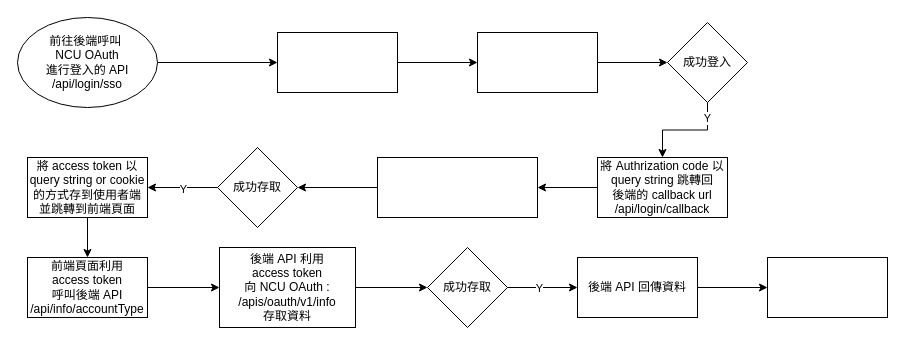
Some shapes in this 905 by 345 pixel diagram are drawn without their labels. Here are the shapes that lost their labels. From the top down, the centre of each, then its label:
At (337,62): "跳轉到 NCU OAuth : /oauth2/authorization 的 Authorization page".
At (537,62): "使用者輸入 NCU Account & Pwd".
At (457,187): "後端利用 Authrization code 和 NCU OAuth : /oauth2/token 要求 access token".
At (827,287): "前端顯示 使用者帳號種類 在頁面上".
